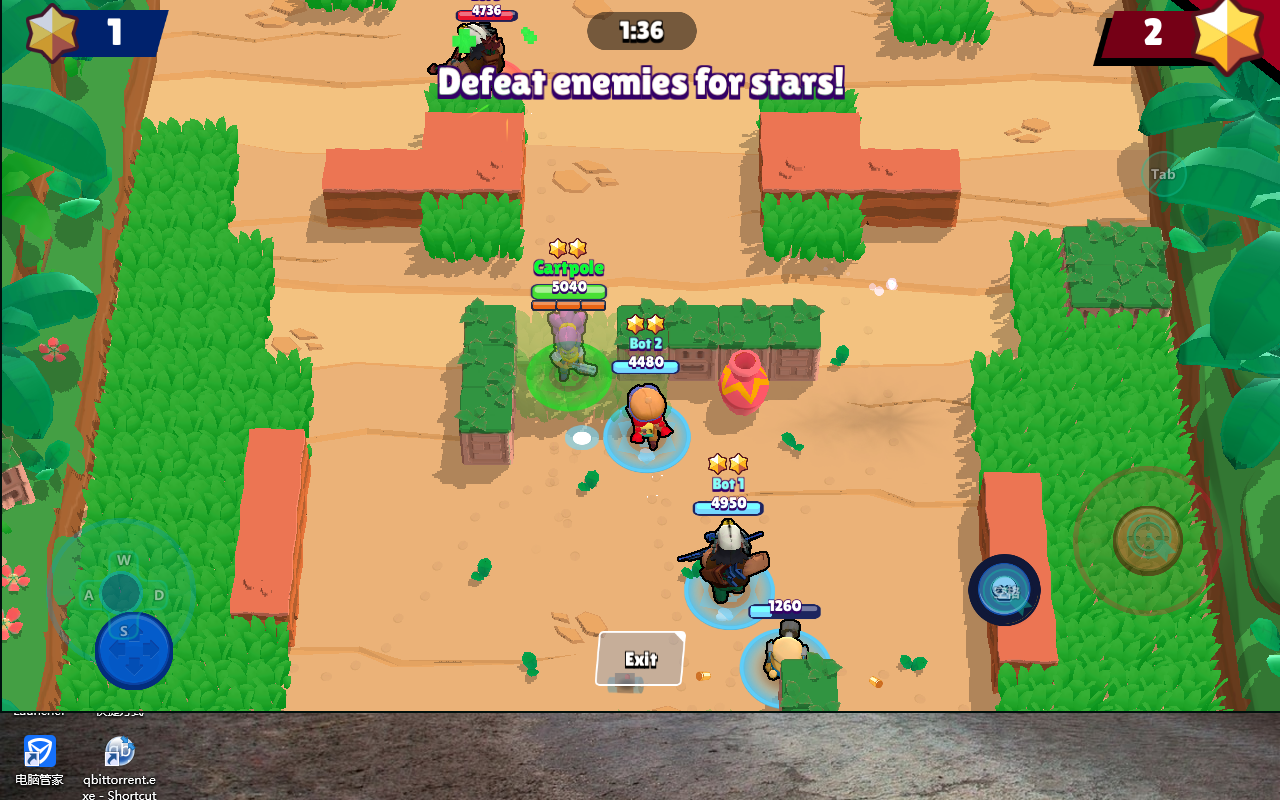current_player: (526, 342, 613, 413)
